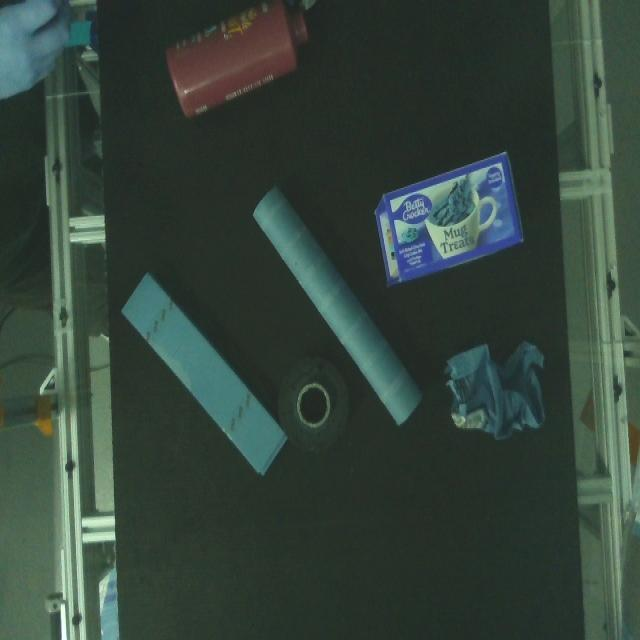non-paper: (156, 0, 326, 128), (278, 348, 352, 452)
paper: (249, 178, 425, 436), (111, 266, 294, 485), (372, 145, 528, 291), (445, 329, 554, 442)
